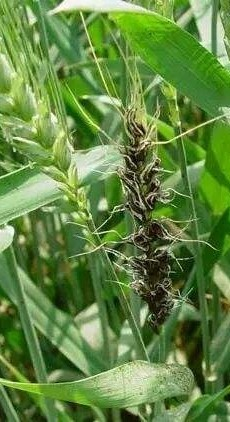Wheat Loose Smut: (116, 113, 186, 318)
